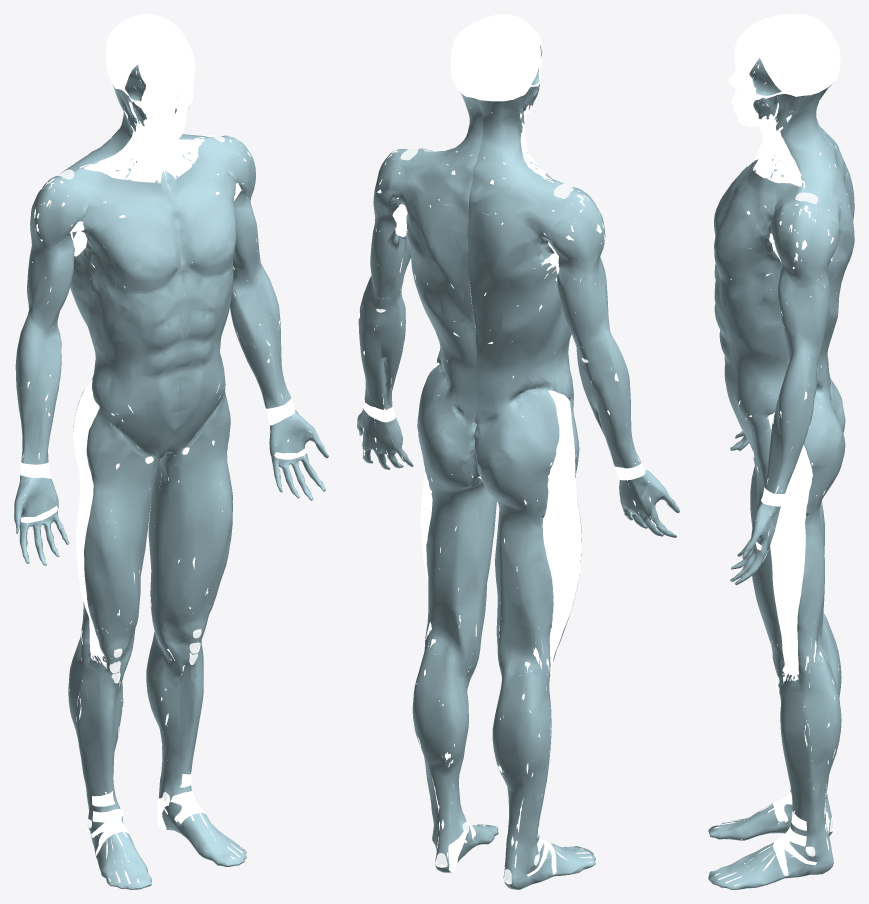
Rendered from muscular.glb.
3 renders of one model, left to right at view 1: azimuth 30°, elevation 25°; view 2: azimuth 150°, elevation 25°; view 3: azimuth 270°, elevation 25°, orthographic. The views are drawn at different scales.
Parts seen in each view (by area): view 1: Investing abdominal fascia.r, Fascia lata.l, Fascia lata.r, Crural fascia.l, Crural fascia.r, Pectoral fascia.r, Investing abdominal fascia.l, Pectoral fascia.l, Antebrachial fascia.r, Antebrachial fascia.l, Deltoid fascia.r, Brachial fascia.r (+13 smaller); view 2: Investing abdominal fascia.r, Fascia lata.r, Fascia lata.l, Crural fascia.r, Investing abdominal fascia.l, Crural fascia.l, Superficial investing cervical fascia.r, Iliotibial tract.r, Antebrachial fascia.r, Antebrachial fascia.l, Deltoid fascia.r, Superficial investing cervical fascia.l (+11 smaller); view 3: Investing abdominal fascia.l, Crural fascia.l, Fascia lata.l, Iliotibial tract.l, Deltoid fascia.l, Pectoral fascia.l, Superficial investing cervical fascia.l, Antebrachial fascia.l, Brachial fascia.l, Epicranial aponeurosis.l, Crural fascia.r, Temporoparietalis muscle.l (+13 smaller).
Boxes of the visible parts, x1=… form: Investing abdominal fascia.r: x1=70, y1=239, x2=184, y2=457; Fascia lata.l: x1=148, y1=392, x2=232, y2=638; Fascia lata.r: x1=73, y1=390, x2=165, y2=658; Crural fascia.l: x1=146, y1=622, x2=246, y2=866; Crural fascia.r: x1=68, y1=638, x2=151, y2=889; Pectoral fascia.r: x1=78, y1=178, x2=182, y2=294; Investing abdominal fascia.l: x1=167, y1=263, x2=233, y2=452; Pectoral fascia.l: x1=167, y1=158, x2=237, y2=274; Antebrachial fascia.r: x1=15, y1=315, x2=61, y2=464; Antebrachial fascia.l: x1=230, y1=263, x2=291, y2=408; Deltoid fascia.r: x1=30, y1=169, x2=113, y2=257; Brachial fascia.r: x1=27, y1=232, x2=74, y2=329; Investing abdominal fascia.r: x1=467, y1=206, x2=573, y2=426; Fascia lata.r: x1=474, y1=389, x2=581, y2=677; Fascia lata.l: x1=417, y1=364, x2=496, y2=657; Crural fascia.r: x1=492, y1=666, x2=595, y2=889; Investing abdominal fascia.l: x1=401, y1=177, x2=476, y2=424; Crural fascia.l: x1=412, y1=648, x2=498, y2=872; Superficial investing cervical fascia.r: x1=468, y1=86, x2=570, y2=216; Iliotibial tract.r: x1=542, y1=390, x2=581, y2=676; Antebrachial fascia.r: x1=575, y1=330, x2=641, y2=468; Antebrachial fascia.l: x1=358, y1=276, x2=405, y2=409; Deltoid fascia.r: x1=521, y1=173, x2=605, y2=274; Superficial investing cervical fascia.l: x1=399, y1=91, x2=483, y2=208; Investing abdominal fascia.l: x1=714, y1=195, x2=854, y2=448; Crural fascia.l: x1=708, y1=657, x2=841, y2=889; Fascia lata.l: x1=751, y1=389, x2=845, y2=674; Iliotibial tract.l: x1=768, y1=412, x2=812, y2=682; Deltoid fascia.l: x1=771, y1=183, x2=843, y2=288; Pectoral fascia.l: x1=714, y1=171, x2=776, y2=285; Superficial investing cervical fascia.l: x1=752, y1=83, x2=848, y2=205; Antebrachial fascia.l: x1=764, y1=348, x2=820, y2=493; Brachial fascia.l: x1=777, y1=261, x2=829, y2=357; Epicranial aponeurosis.l: x1=738, y1=18, x2=840, y2=77; Crural fascia.r: x1=708, y1=618, x2=841, y2=840; Temporoparietalis muscle.l: x1=759, y1=46, x2=821, y2=96.
Bounding box in the file's own units: 0.6707 × 1.7 × 0.2686.
